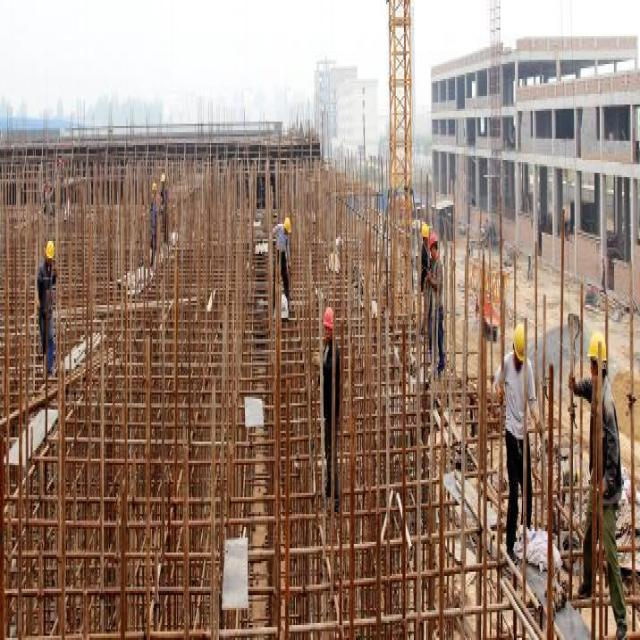hat: (586, 328, 609, 382), (511, 316, 530, 374), (320, 305, 336, 339), (281, 211, 293, 239), (44, 237, 55, 267), (428, 230, 438, 256), (421, 220, 431, 246), (159, 166, 166, 189), (150, 177, 157, 198)
